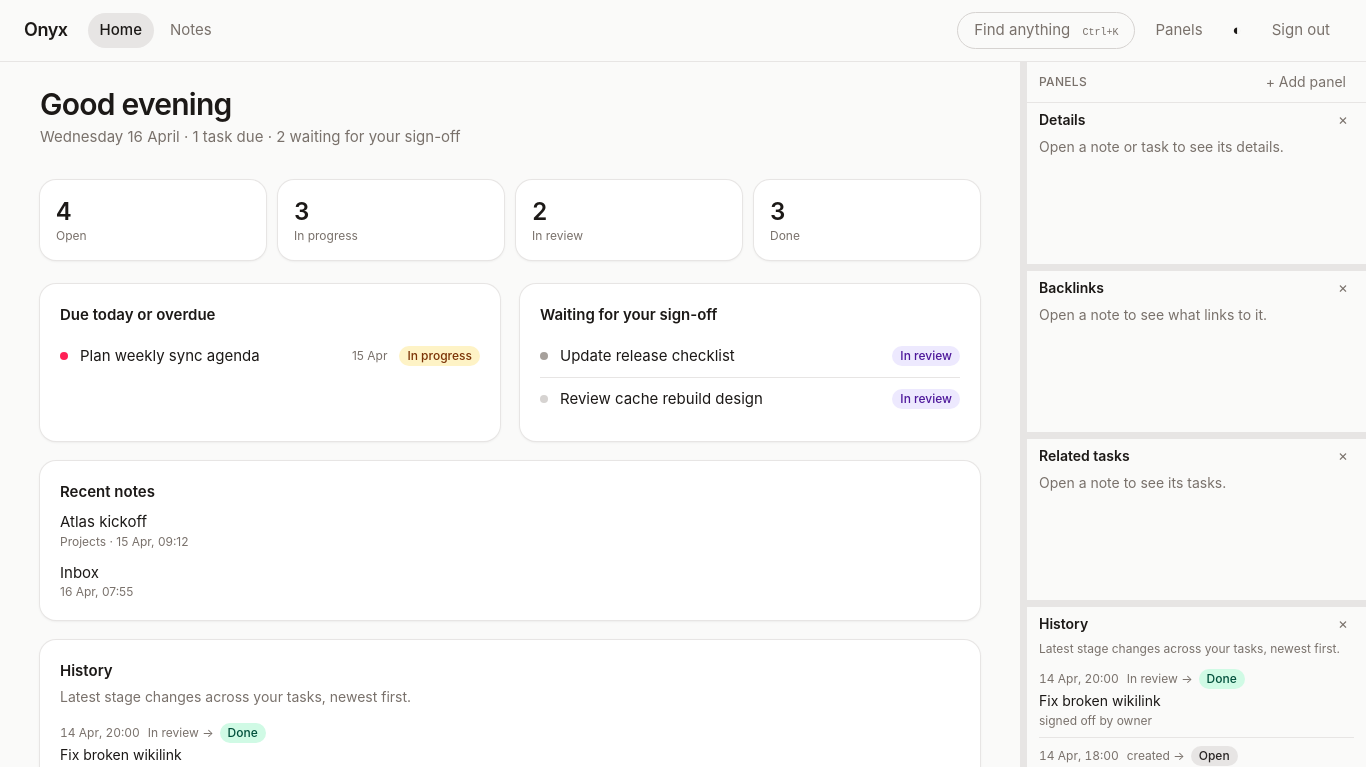
⌘K palette › opens with Ctrl+K and from the top-bar button
The image size is (1366, 767).
Expected: the heading "Due today or overdue" is shown, 60,305 -> 215,324
Type keys "{Control>}k{/Control}"
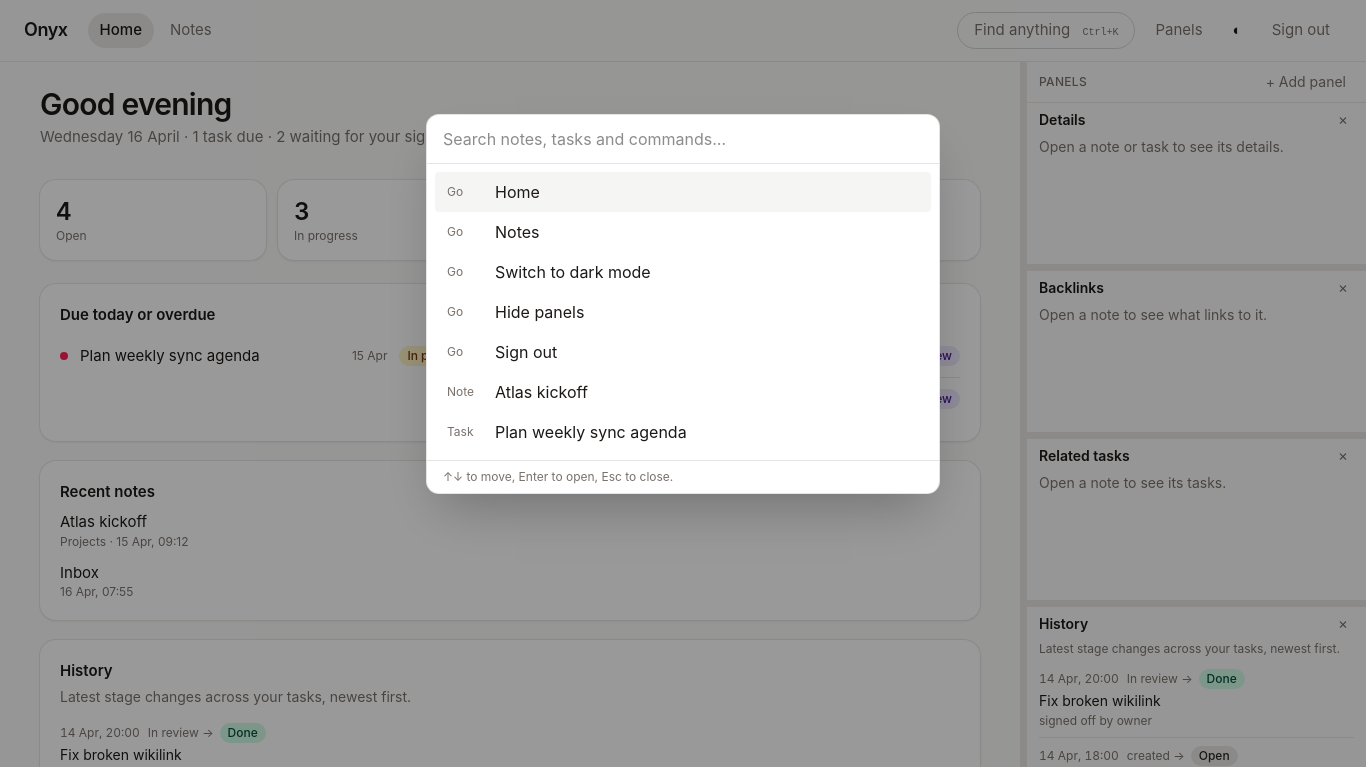
Now the dropdown is shown, box 427,115 -> 939,164
Press Escape
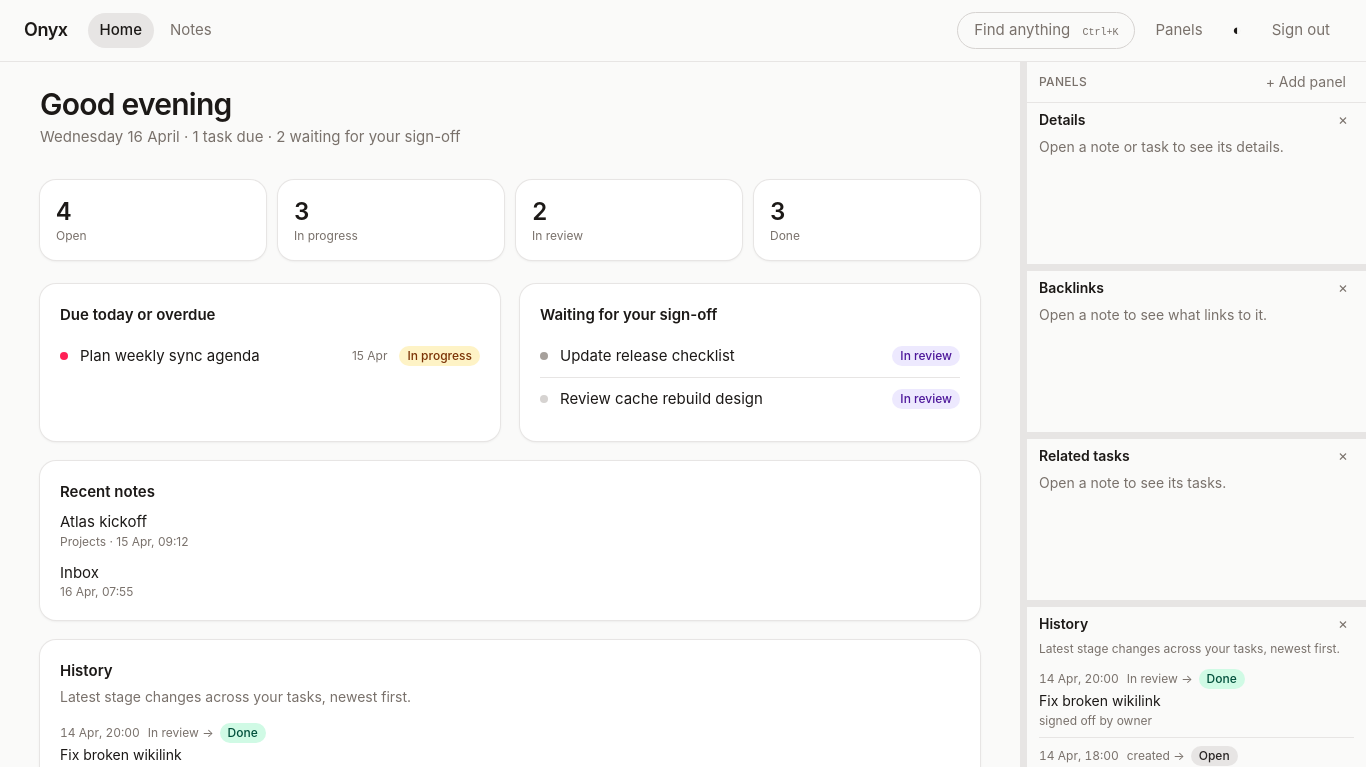
Now the dropdown is gone
Click the button "Find anything Ctrl+K".
click(1046, 30)  # box 957,12 -> 1136,48
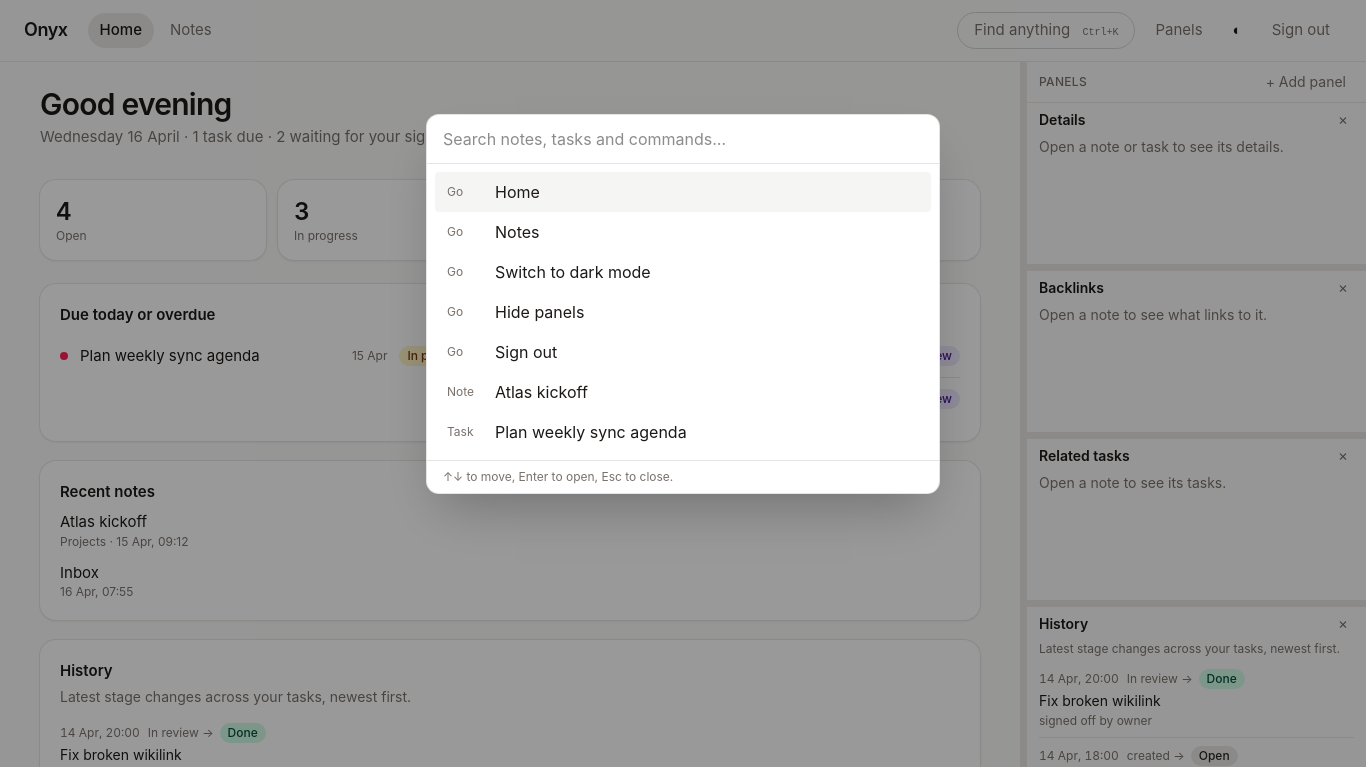
Now the dropdown is shown, box 427,115 -> 939,164
